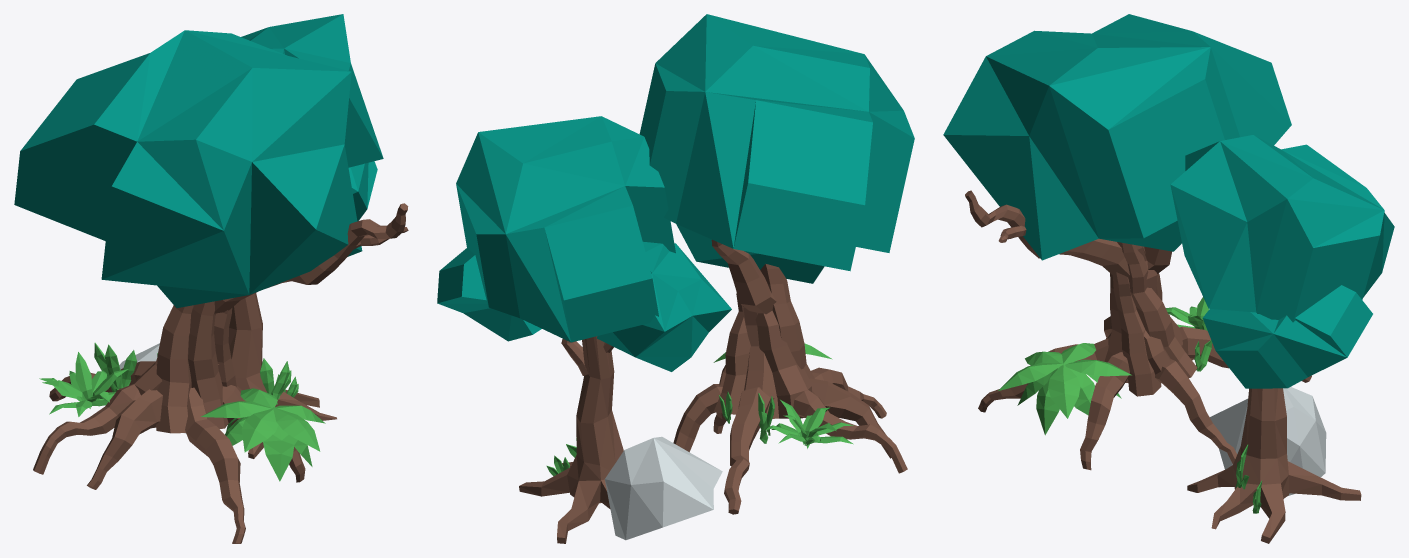
File: Woods Grove Small.glb
The picture shows the model from 3 angles, left to right: view 1: azimuth 30°, elevation 25°; view 2: azimuth 150°, elevation 25°; view 3: azimuth 270°, elevation 25°; orthographic projection. The views are drawn at different scales.
Visible parts, largest first — view 1: group1489245576, group1715968370, group1180255365, group624957455, group1084787493, group1303039147, group1833200623, group894192591, group1764158909; view 2: group1489245576, group1180255365, group1715968370, group1814464028, group1084787493, group1047130556, group1833200623, group1303039147; view 3: group1489245576, group1180255365, group1715968370, group1833200623, group1084787493, group624957455, group1814464028, group1303039147.
Boxes of the visible parts, x1,y1,x2,y2 form: group1489245576: (14, 30, 362, 307); group1715968370: (33, 203, 408, 543); group1180255365: (241, 14, 383, 167); group624957455: (201, 388, 325, 481); group1084787493: (228, 293, 336, 458); group1303039147: (39, 352, 128, 416); group1833200623: (348, 161, 377, 221); group894192591: (94, 342, 136, 392); group1764158909: (260, 358, 291, 404); group1489245576: (639, 14, 914, 283); group1180255365: (456, 116, 675, 342); group1715968370: (673, 239, 907, 514); group1814464028: (604, 436, 722, 540); group1084787493: (519, 336, 623, 543); group1047130556: (597, 241, 731, 371); group1833200623: (437, 248, 541, 341); group1303039147: (760, 399, 853, 448); group1489245576: (943, 14, 1291, 260); group1180255365: (1170, 135, 1394, 322); group1715968370: (965, 190, 1311, 470); group1833200623: (1202, 285, 1372, 388); group1084787493: (1187, 388, 1361, 543); group624957455: (998, 343, 1131, 435); group1814464028: (1210, 387, 1326, 495); group1303039147: (1166, 297, 1208, 329).
Size of the model in its own units: 4.19 by 4.52 by 4.28.
